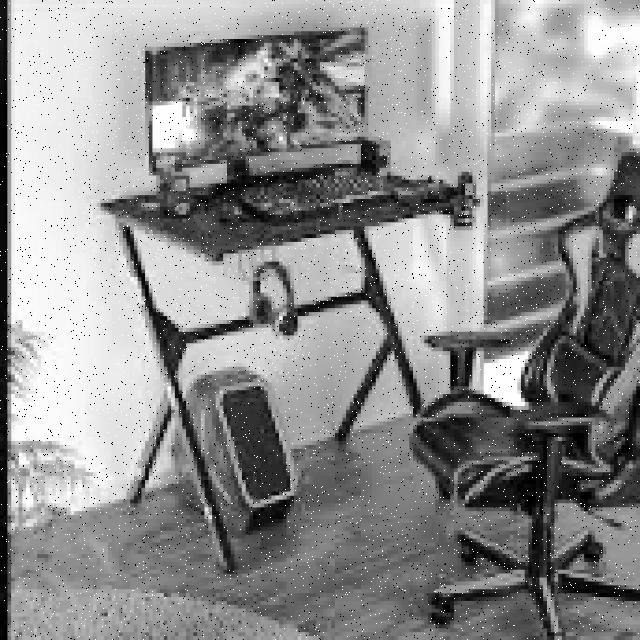book: (409, 144, 640, 640)
table: (100, 160, 477, 570)
